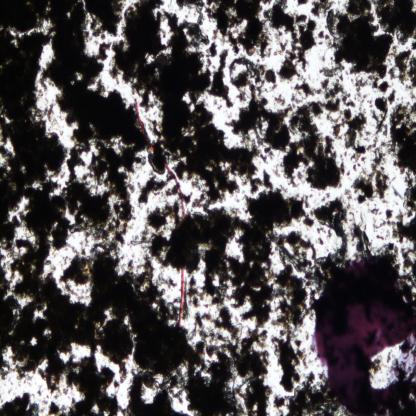Background material: (112, 0, 272, 204), (47, 0, 139, 250), (0, 301, 190, 415), (230, 194, 313, 326), (0, 29, 68, 181), (190, 308, 271, 415), (0, 182, 69, 302), (92, 240, 181, 322), (229, 54, 292, 154), (170, 211, 236, 306), (312, 1, 390, 80), (285, 100, 348, 189), (204, 0, 272, 57), (270, 1, 316, 82), (271, 326, 309, 394), (271, 373, 332, 414), (352, 139, 388, 204), (388, 102, 416, 182), (312, 198, 349, 256), (332, 106, 368, 164), (373, 0, 416, 43), (206, 42, 233, 109), (83, 0, 124, 40), (0, 0, 47, 33), (315, 78, 358, 110), (59, 252, 92, 293), (389, 42, 416, 90), (0, 389, 40, 415), (350, 211, 372, 257), (392, 215, 416, 256), (391, 178, 416, 217), (142, 206, 170, 237), (137, 175, 165, 204), (147, 139, 169, 174), (372, 97, 389, 138), (397, 256, 416, 288), (291, 81, 315, 103), (188, 276, 203, 310), (355, 78, 369, 107), (371, 79, 389, 93), (372, 216, 386, 231), (384, 206, 394, 227), (387, 88, 396, 107), (343, 188, 354, 201), (367, 206, 379, 215), (296, 0, 310, 7), (376, 233, 386, 241)
Cellulose filter fibre: (278, 245, 308, 278), (230, 355, 238, 402)
Microfibre: (164, 161, 186, 220), (136, 98, 156, 152), (178, 268, 186, 325)
Pen: (314, 256, 416, 414)
